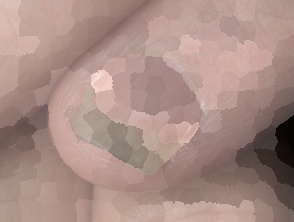Nail_psoriasis: (45, 12, 252, 202)
